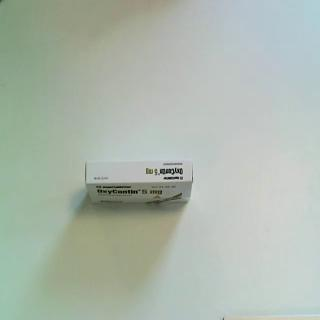oxycontin5mg: (84, 159, 194, 207)
